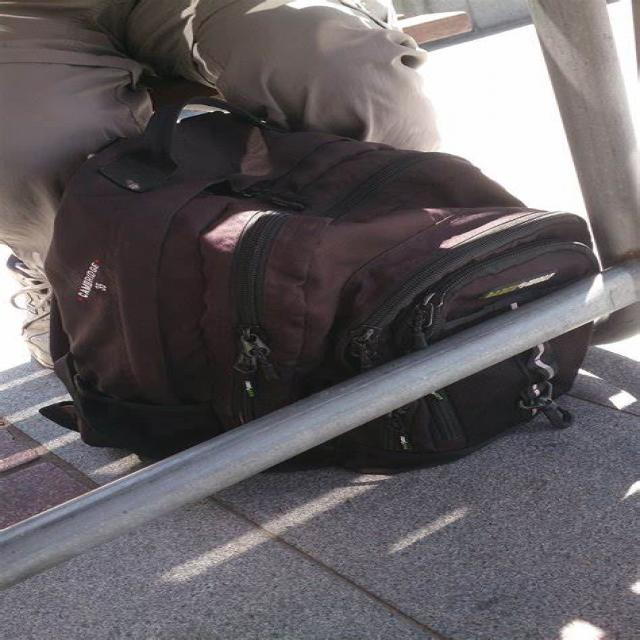Backpacks: (39, 96, 608, 497)
